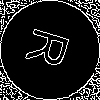R: (25, 25, 79, 74)
